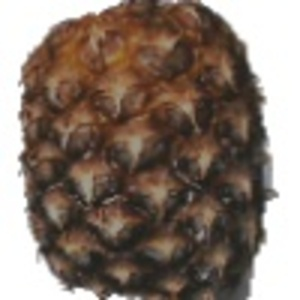abacaxi: (10, 3, 285, 297)
